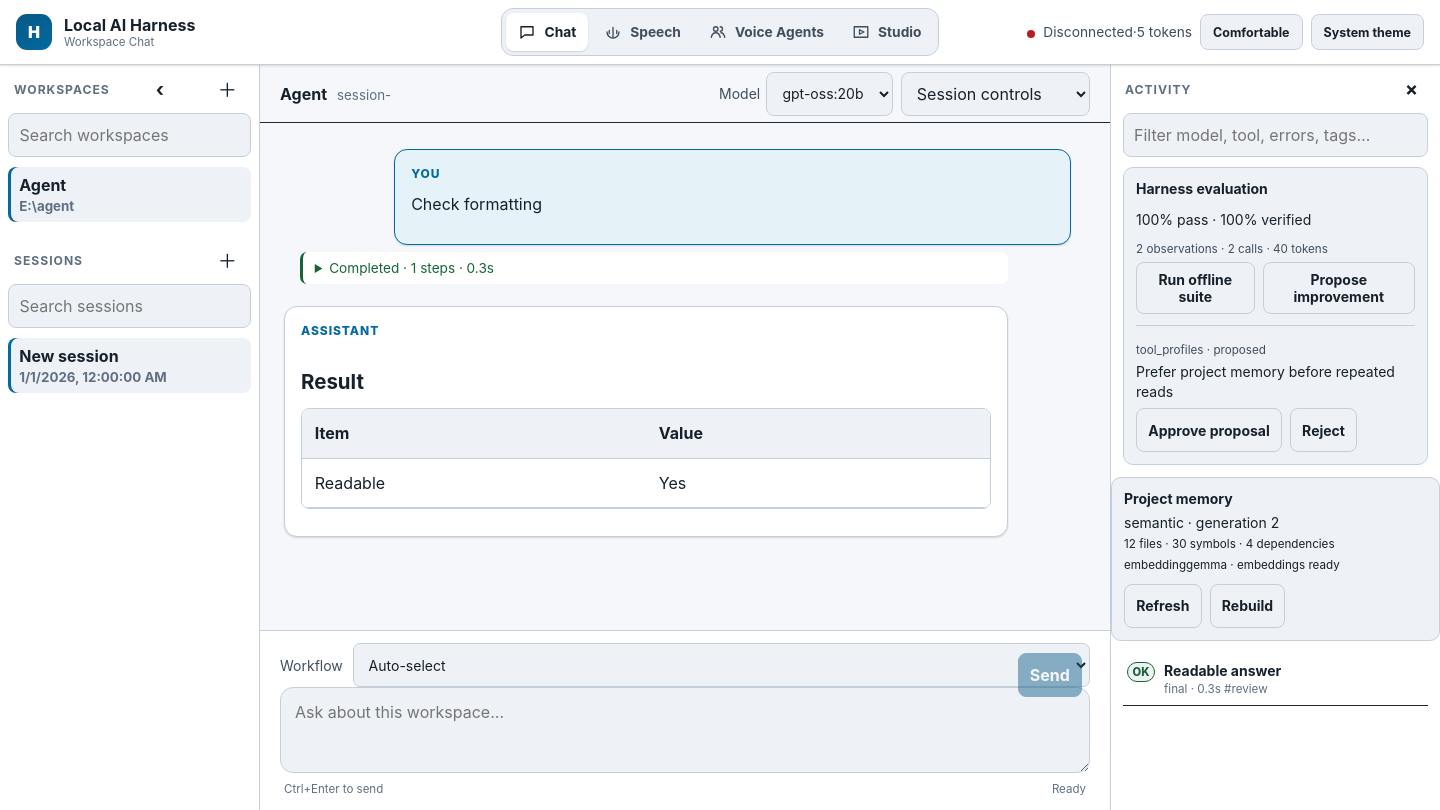
Harness browser › persists themes and renders filtered Markdown activity
Expected: the heading "Result" is shown, [301,370,364,394]
Expected: the text "5 tokens" is shown, [1137,24,1192,40]
Click the button with aria-label "Theme:": (1367, 32) [1310,14,1424,50]
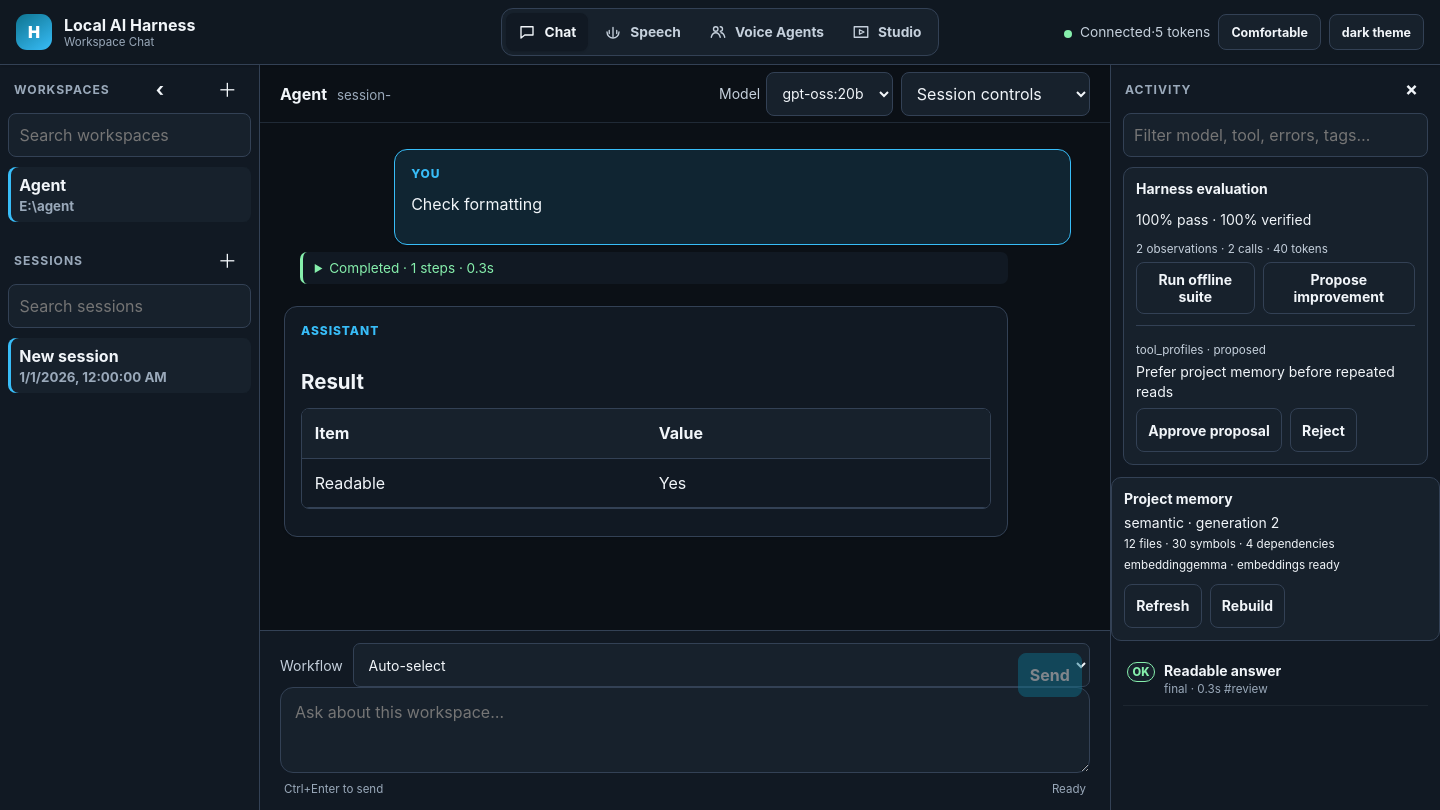
Click the button with aria-label "Theme:": (1376, 32) [1329,14,1424,50]
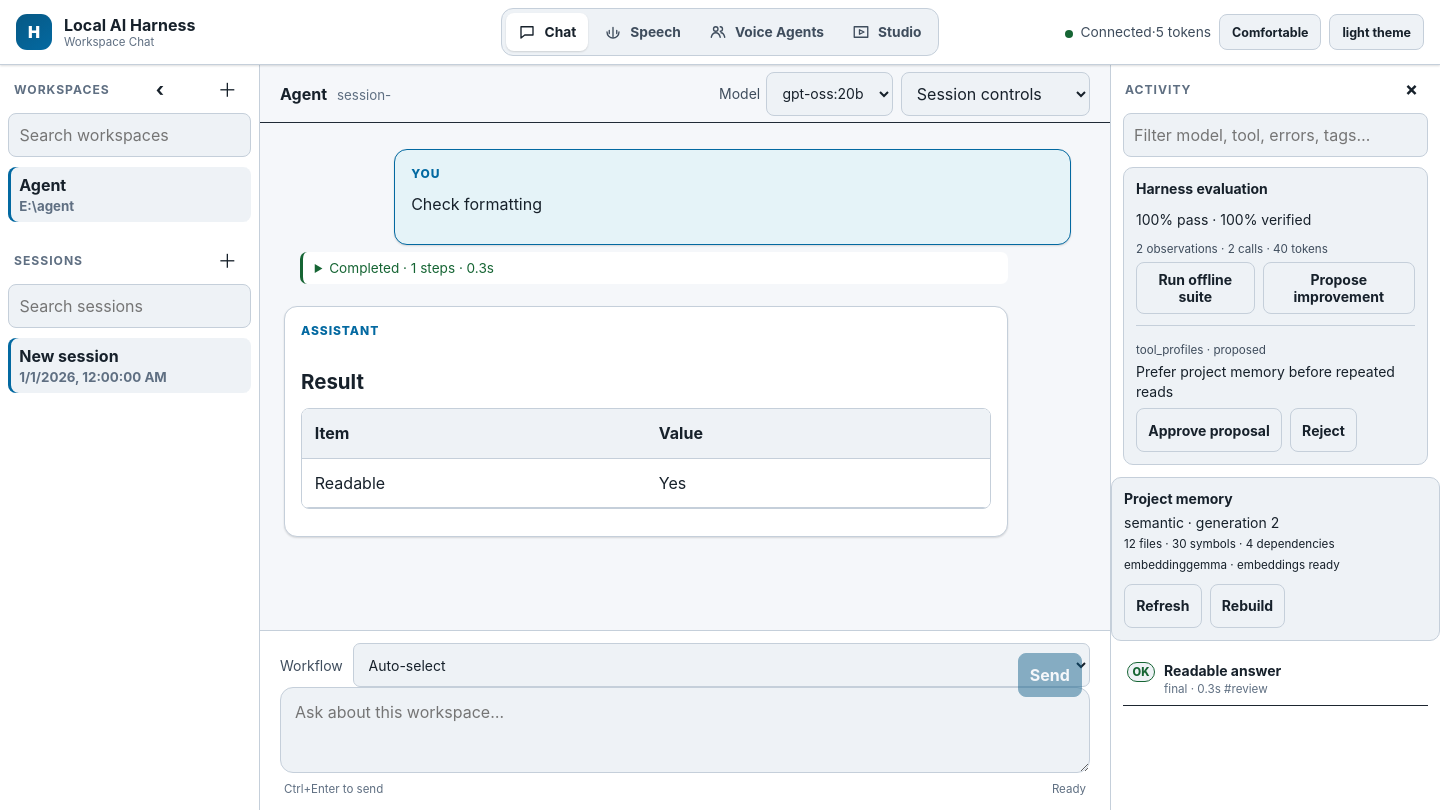
Click the button with aria-label "Theme:": (1377, 32) [1330,14,1424,50]
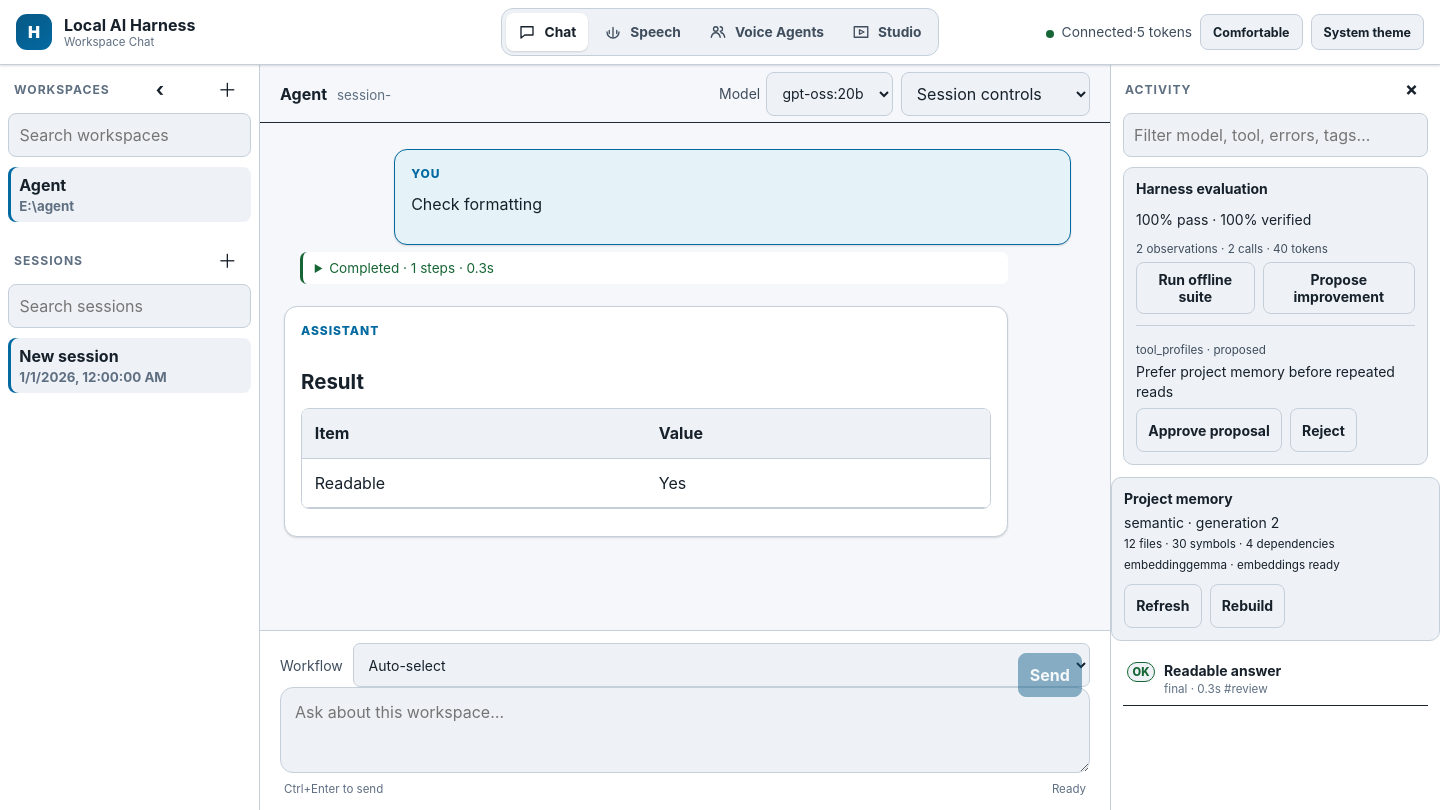
In the field named "Filter events": (1276, 135) [1123,113,1428,157], type "missing"
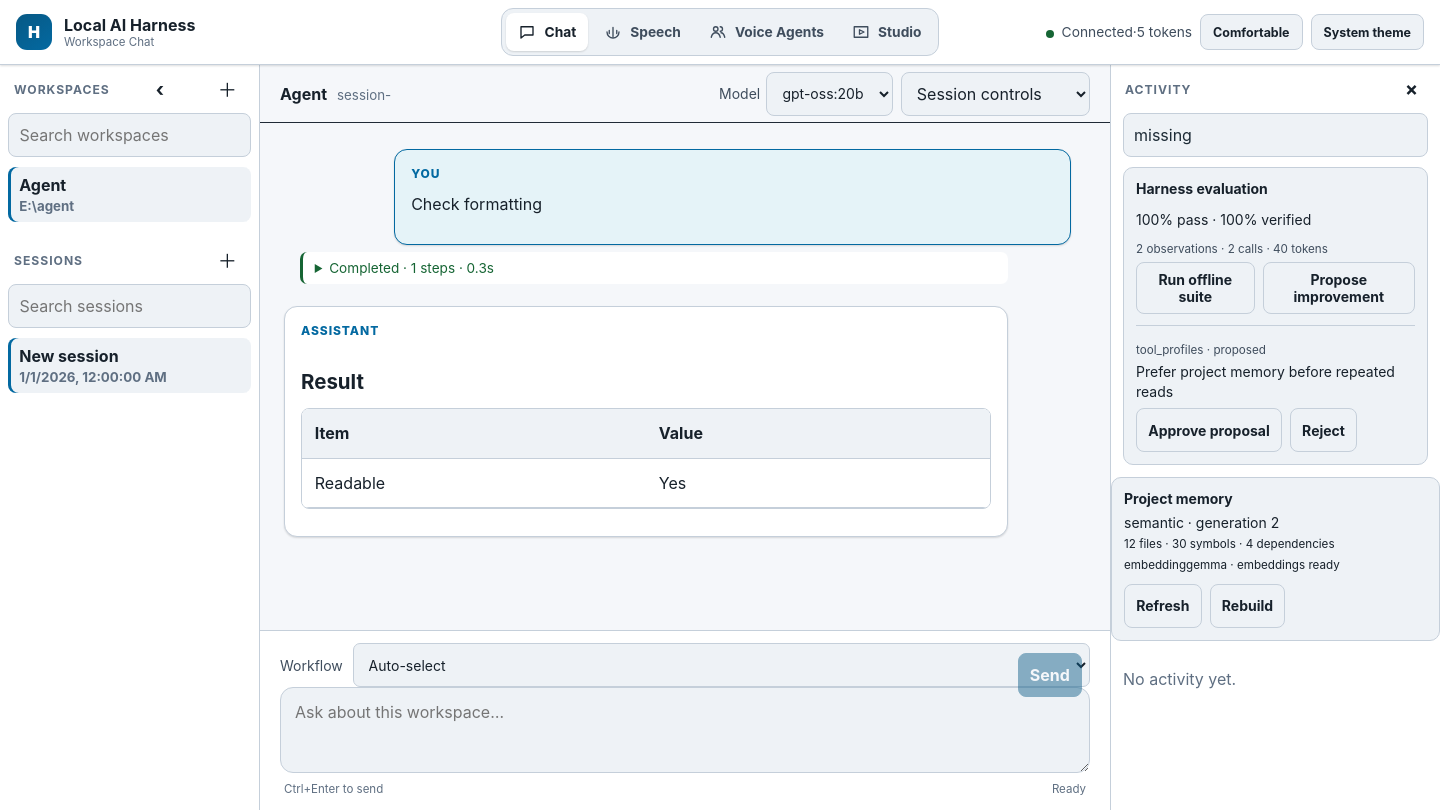
Expected: the text "No activity yet." is shown, [1123,668,1236,688]
Replace the text in the field named "Filter events" with "review": (1276, 135) [1123,113,1428,157]
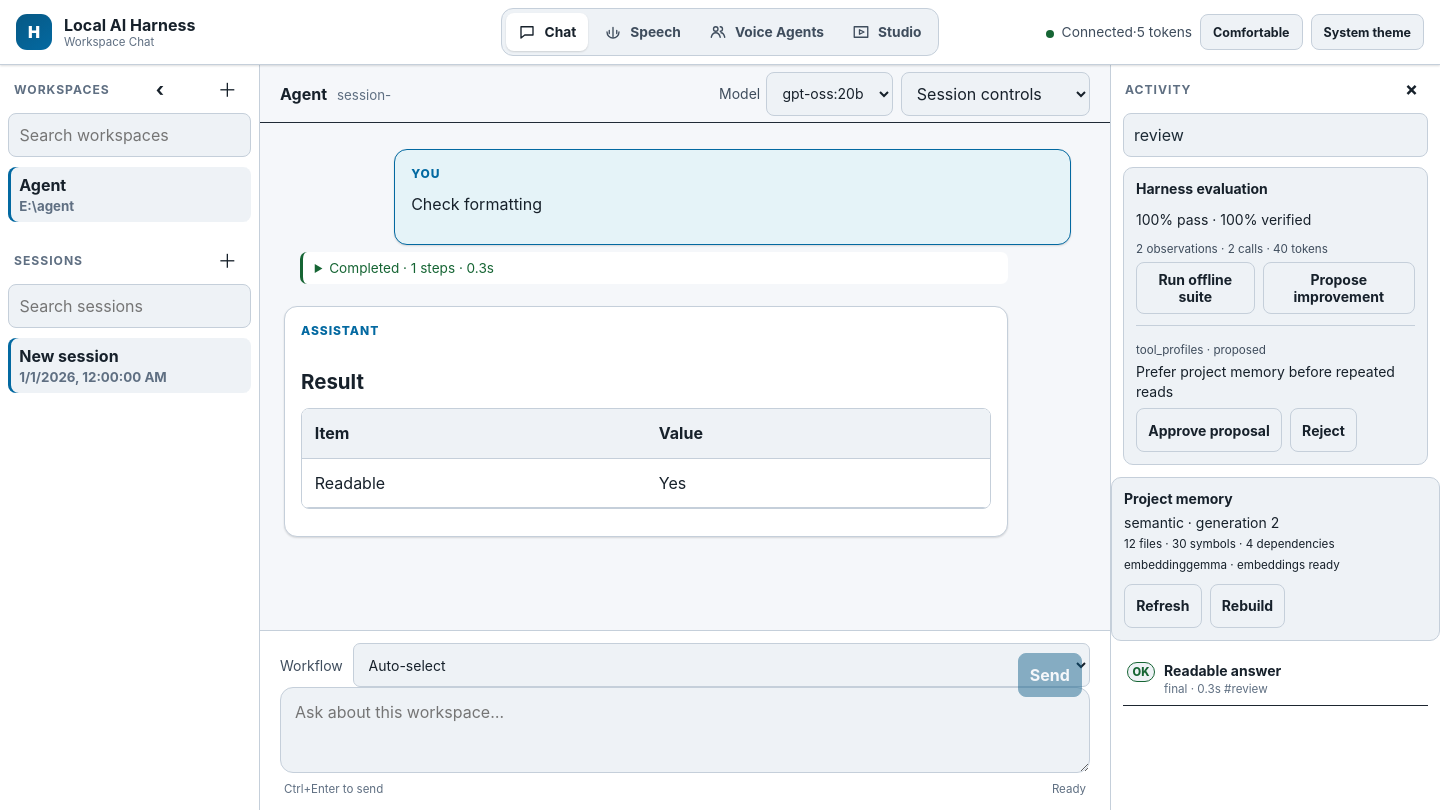
Expected: the text "Readable answer" is shown 2 times
